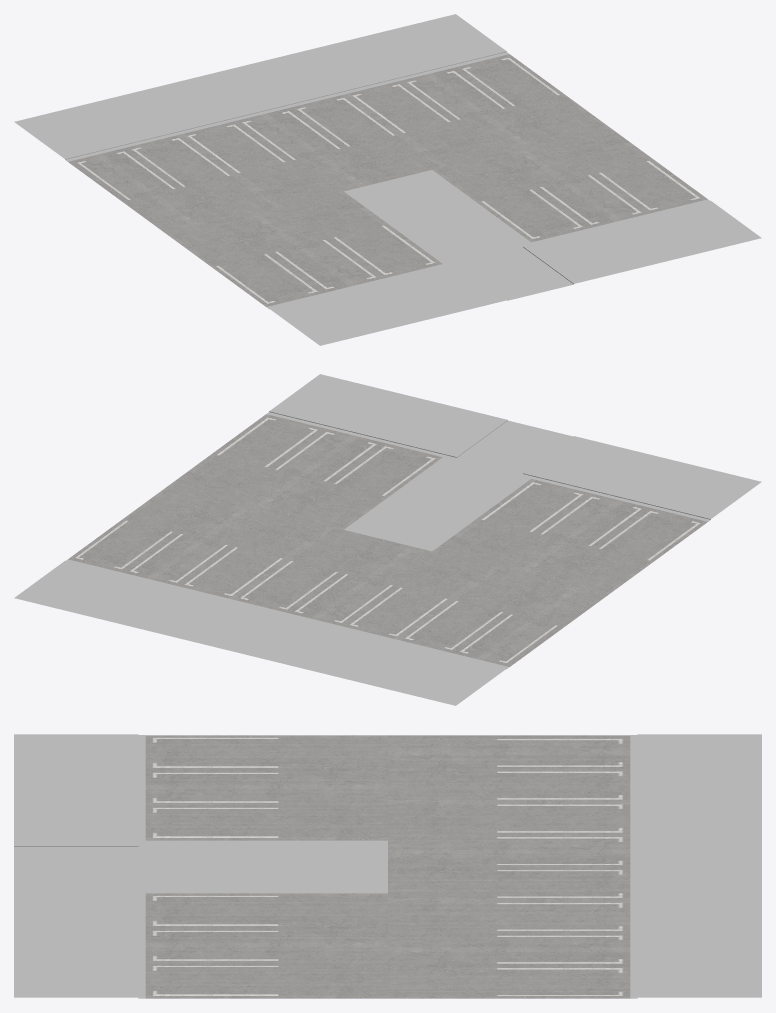
File: Parking_a.FBX
3 views of the same model, one above another, from view 1: azimuth 30°, elevation 25°; view 2: azimuth 150°, elevation 25°; view 3: azimuth 270°, elevation 25° (orthographic). The views are drawn at different scales.
Visible parts, largest first — view 1: Parking_a; view 2: Parking_a; view 3: Parking_a.
Boxes of the visible parts, x1,y1,x2,y2 form: Parking_a: (14, 14, 761, 345); Parking_a: (14, 374, 761, 705); Parking_a: (14, 734, 761, 998).
Bounding box in the file's own units: 100 × 120 × 0.1384.
